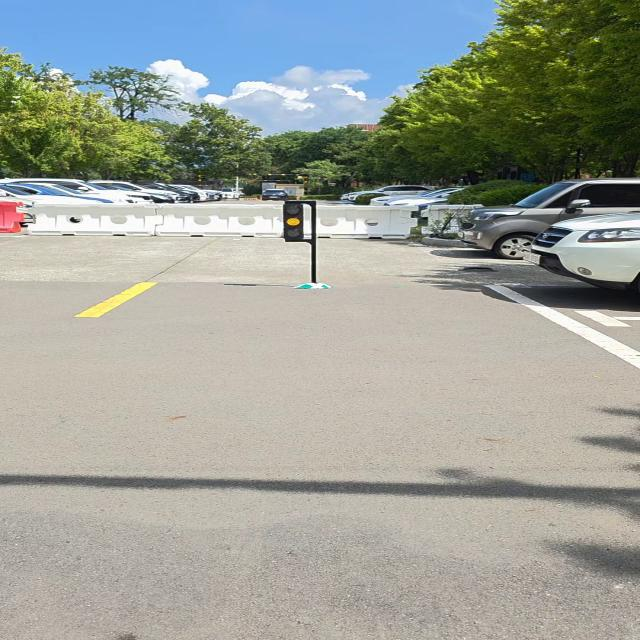yellow: (282, 204, 304, 240)
